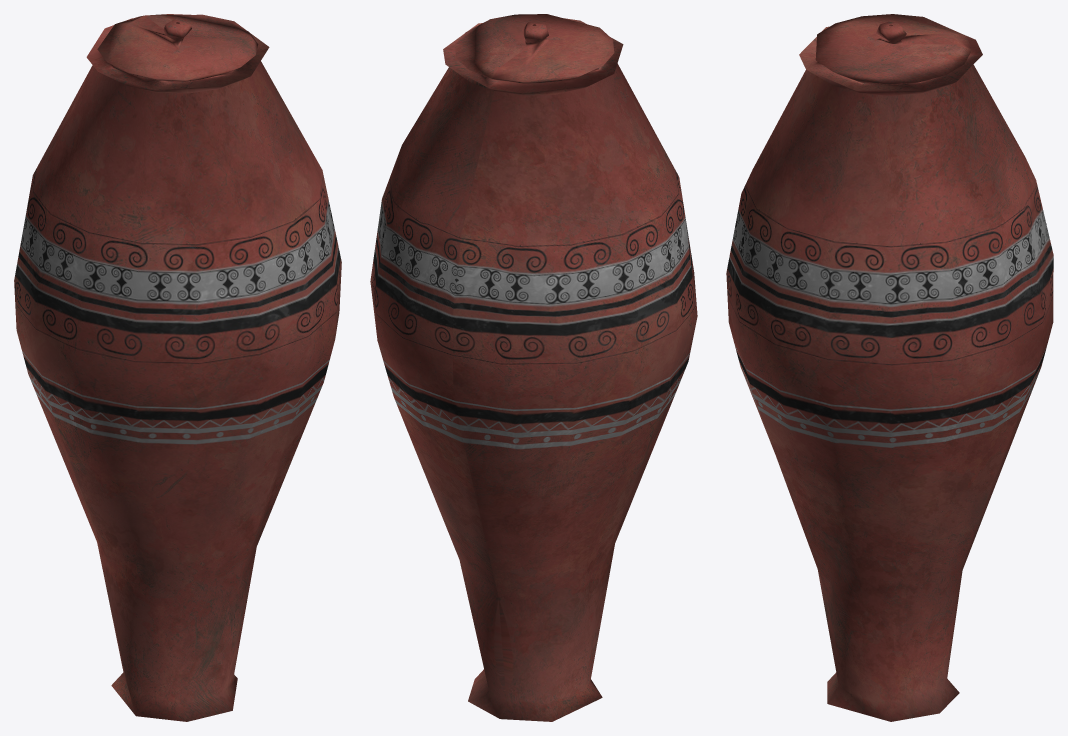
The model's file is market_pot.glb.
3 views of the same model, side by side, from view 1: azimuth 30°, elevation 25°; view 2: azimuth 150°, elevation 25°; view 3: azimuth 270°, elevation 25° (orthographic).
Parts seen in each view (by area): view 1: BezierCurve.003; view 2: BezierCurve.003; view 3: BezierCurve.003.
Part boxes in pixels (<box>): BezierCurve.003: <box>14,14,341,721</box>; BezierCurve.003: <box>370,14,697,721</box>; BezierCurve.003: <box>726,14,1053,721</box>.
Bounding box in the file's own units: 98.62 × 221 × 98.02.
Materials: 1 (1 with a texture image).
